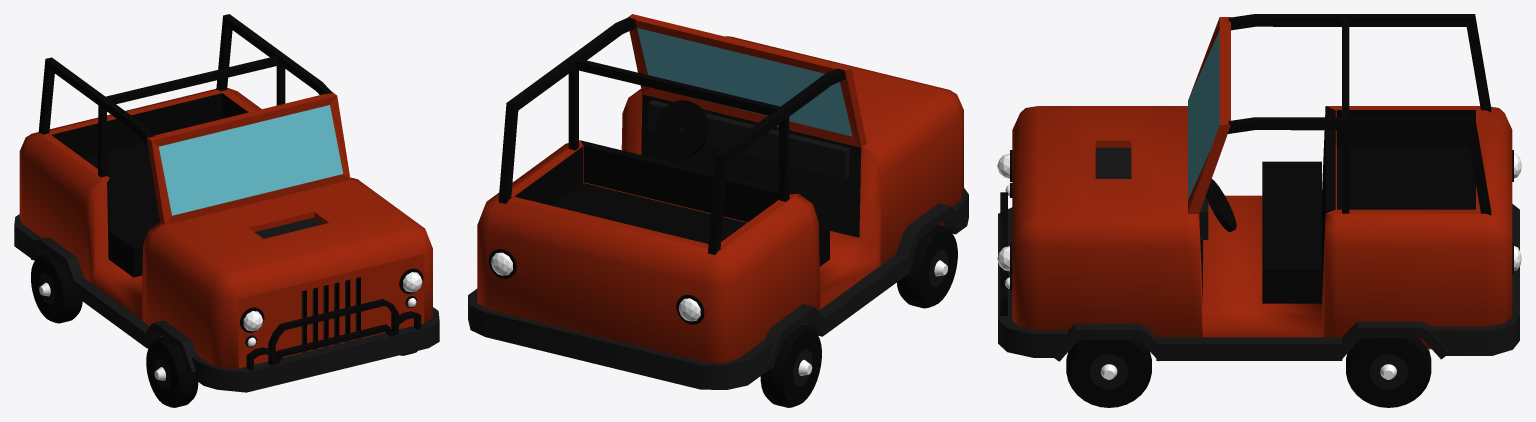
File: Jeep_1385.obj
3 views of the same model, side by side, from view 1: azimuth 30°, elevation 25°; view 2: azimuth 150°, elevation 25°; view 3: azimuth 270°, elevation 25° (orthographic). The views are drawn at different scales.
Parts seen in each view (by area): view 1: ChamferBox001; view 2: ChamferBox001; view 3: ChamferBox001.
Boxes of the visible parts, x1,y1,x2,y2 form: ChamferBox001: [14, 14, 439, 407]; ChamferBox001: [468, 14, 968, 407]; ChamferBox001: [997, 14, 1521, 407].
Bounding box in the file's own units: 35.23 × 30.27 × 52.51.
